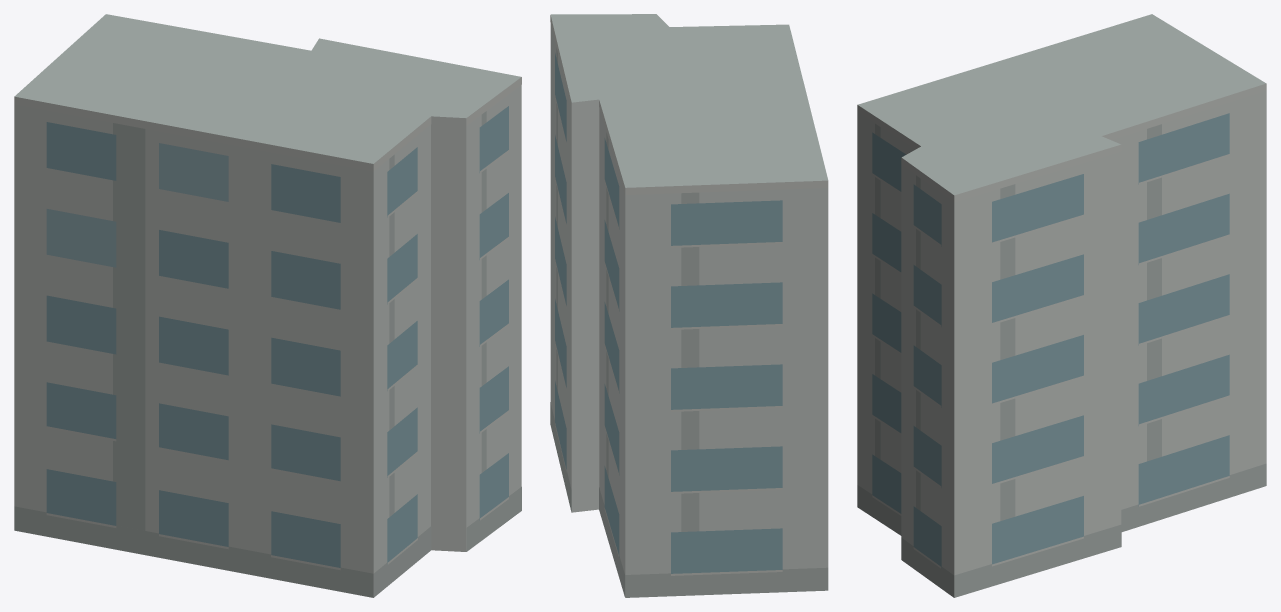
File: survey-upis-32948455.glb
3 views of the same model, side by side, from view 1: azimuth 30°, elevation 25°; view 2: azimuth 150°, elevation 25°; view 3: azimuth 270°, elevation 25° (orthographic). The views are drawn at different scales.
Visible parts, largest first — view 1: survey-upis-32948455.tmp; view 2: survey-upis-32948455.tmp; view 3: survey-upis-32948455.tmp.
Part boxes in pixels (box(x1,y1,x2,y2)): survey-upis-32948455.tmp: box(14, 14, 521, 597); survey-upis-32948455.tmp: box(550, 14, 828, 597); survey-upis-32948455.tmp: box(857, 14, 1266, 597).
Size of the model in its own units: 13.15 by 13.6 by 12.54.
